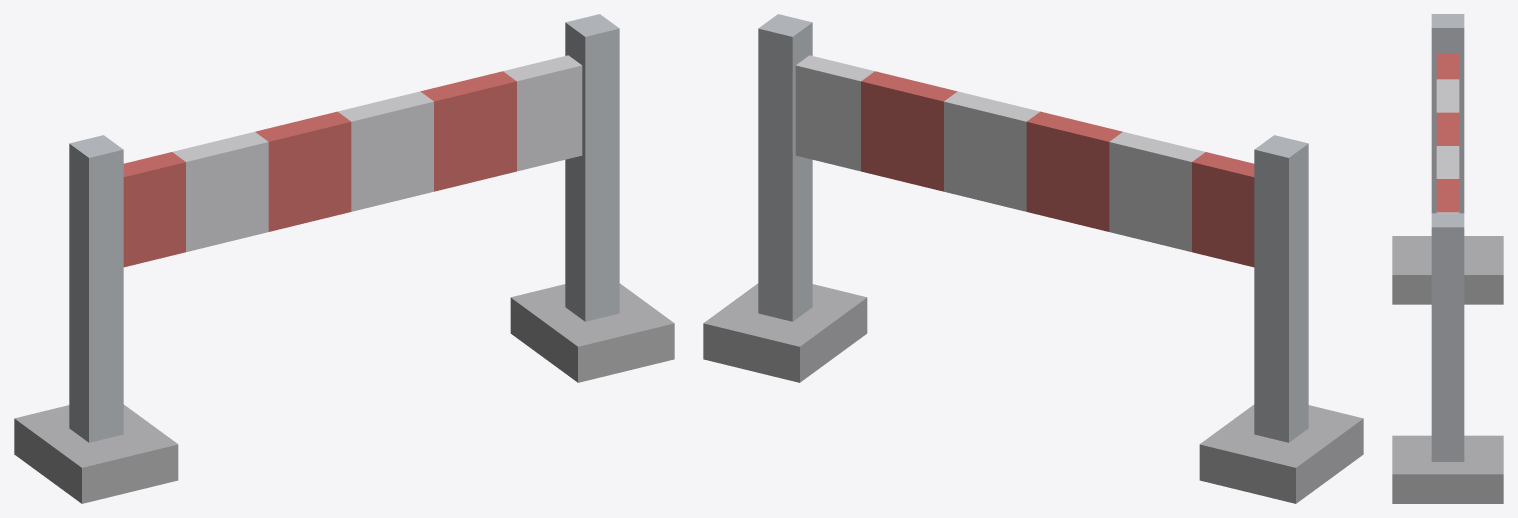
File: 09_railway_barrier.glb
3 views of the same model, side by side, from view 1: azimuth 30°, elevation 25°; view 2: azimuth 150°, elevation 25°; view 3: azimuth 270°, elevation 25° (orthographic). The views are drawn at different scales.
Visible parts, largest first — view 1: RailwayBarrier; view 2: RailwayBarrier; view 3: RailwayBarrier.
Boxes of the visible parts, <box> form: RailwayBarrier: <box>14,14,674,503</box>; RailwayBarrier: <box>703,14,1363,503</box>; RailwayBarrier: <box>1392,14,1503,503</box>.
Bounding box in the file's own units: 1.72 × 0.89 × 0.34.
